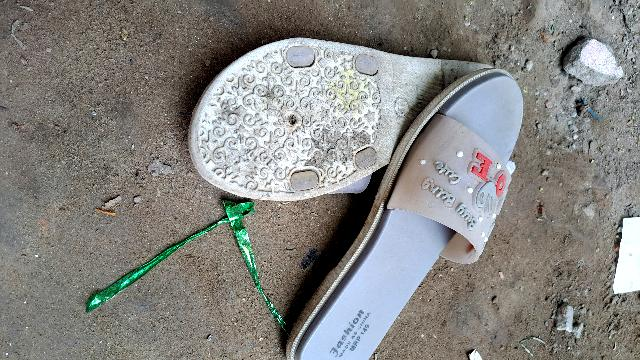sandal: (290, 54, 563, 360), (193, 48, 522, 221)
